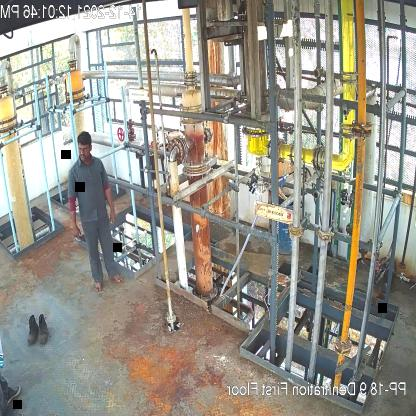no_shoes: (108, 273, 124, 283), (94, 281, 105, 294)
shoes: (35, 312, 50, 346), (26, 315, 38, 344)
